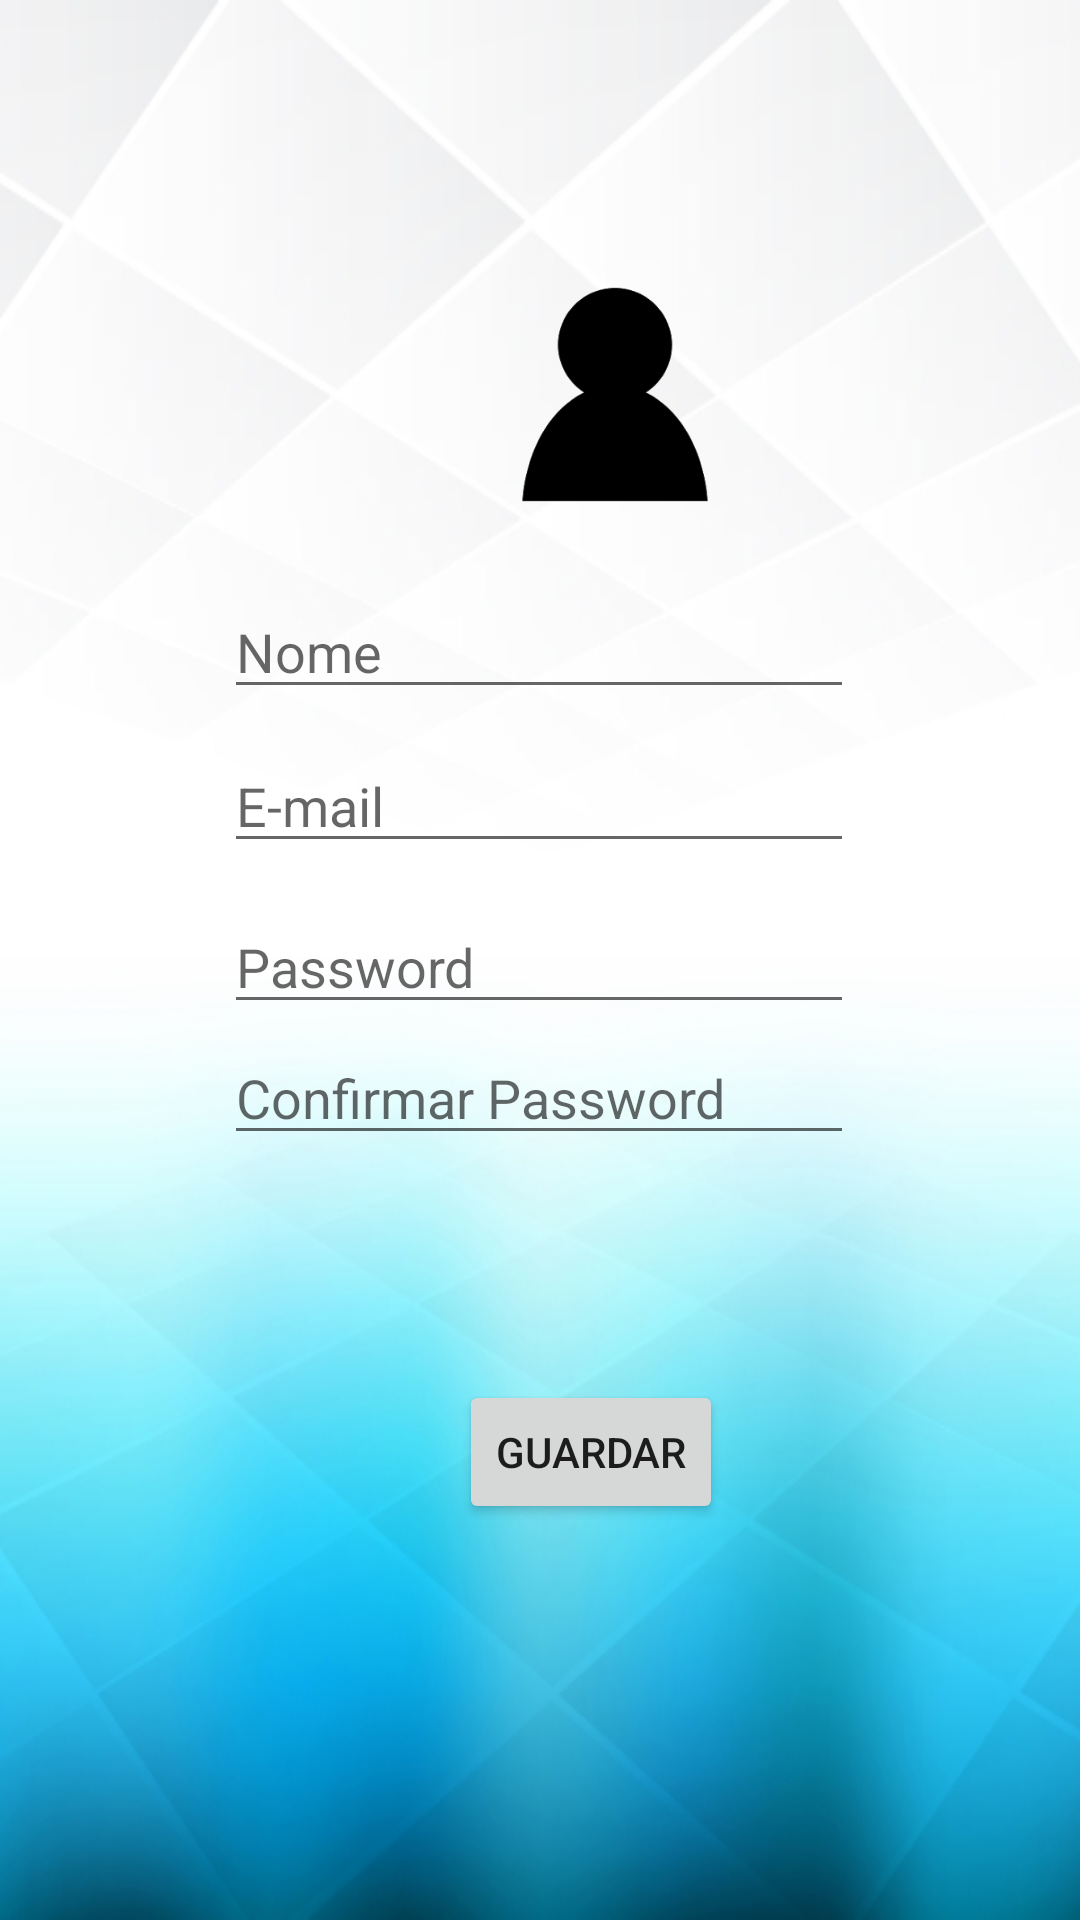

Icon bounding boxes for this 1080*1920 phone screenshot, format [x1=x1, y1=y1, x2=x2, y2=y2]:
user: [x1=522, y1=287, x2=708, y2=502]
